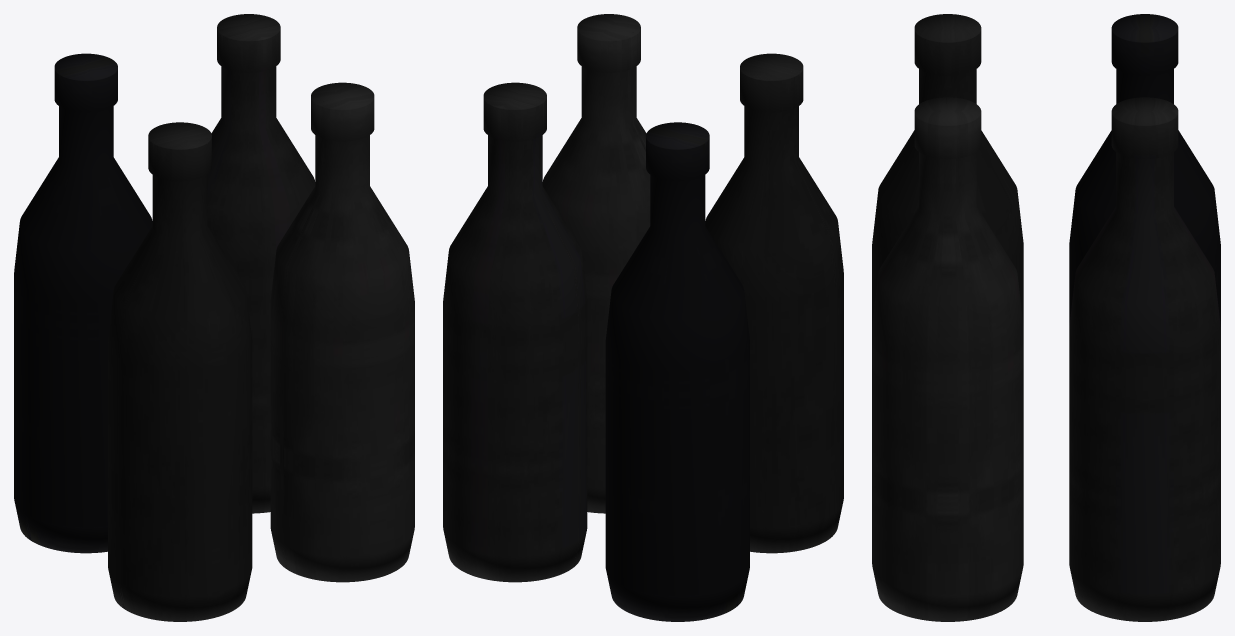
File: ORI-55.glb
3 renders of one model, left to right at view 1: azimuth 30°, elevation 25°; view 2: azimuth 150°, elevation 25°; view 3: azimuth 270°, elevation 25°, orthographic. The views are drawn at different scales.
Size of the model in its own units: 0.184 by 0.28 by 0.184.
Materials: 4 (4 with a texture image).
